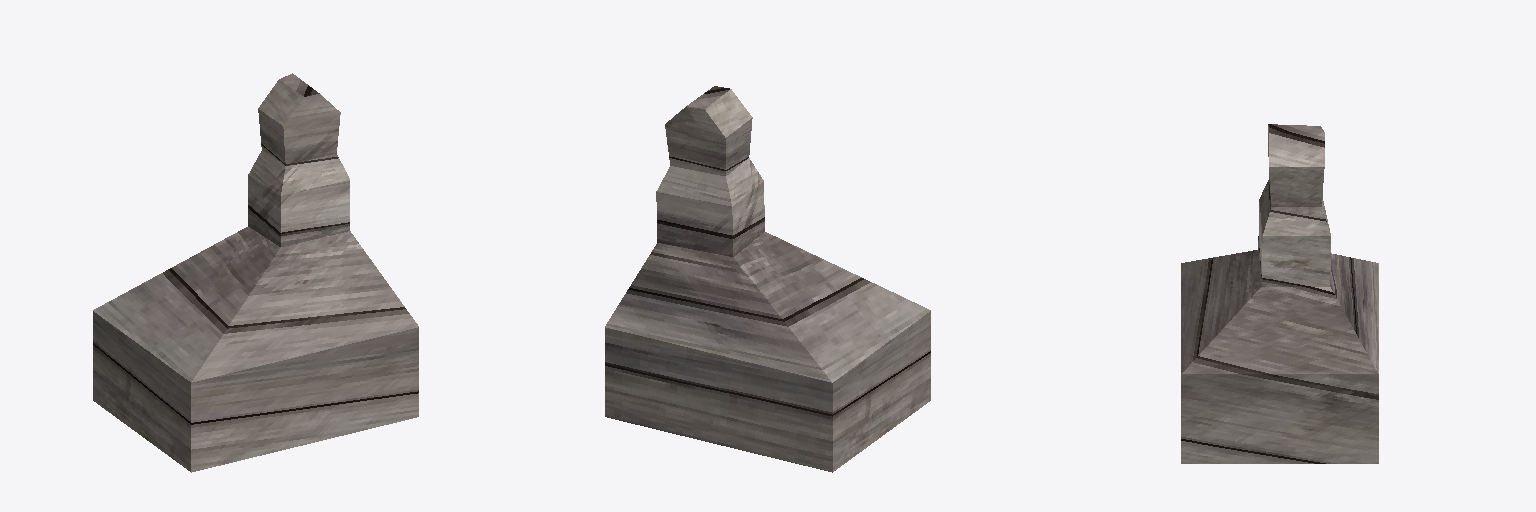
3 renders of one model, left to right at view 1: azimuth 30°, elevation 25°; view 2: azimuth 150°, elevation 25°; view 3: azimuth 270°, elevation 25°, orthographic.
Parts seen in each view (by area): view 1: Plane_Plane.001; view 2: Plane_Plane.001; view 3: Plane_Plane.001.
Boxes of the visible parts, box(x1,y1,x2,y2) form: Plane_Plane.001: box(93, 73, 418, 472); Plane_Plane.001: box(605, 86, 930, 472); Plane_Plane.001: box(1181, 124, 1378, 463).
Size of the model in its own units: 8 by 10.23 by 6.
1 materials, 1 textured.